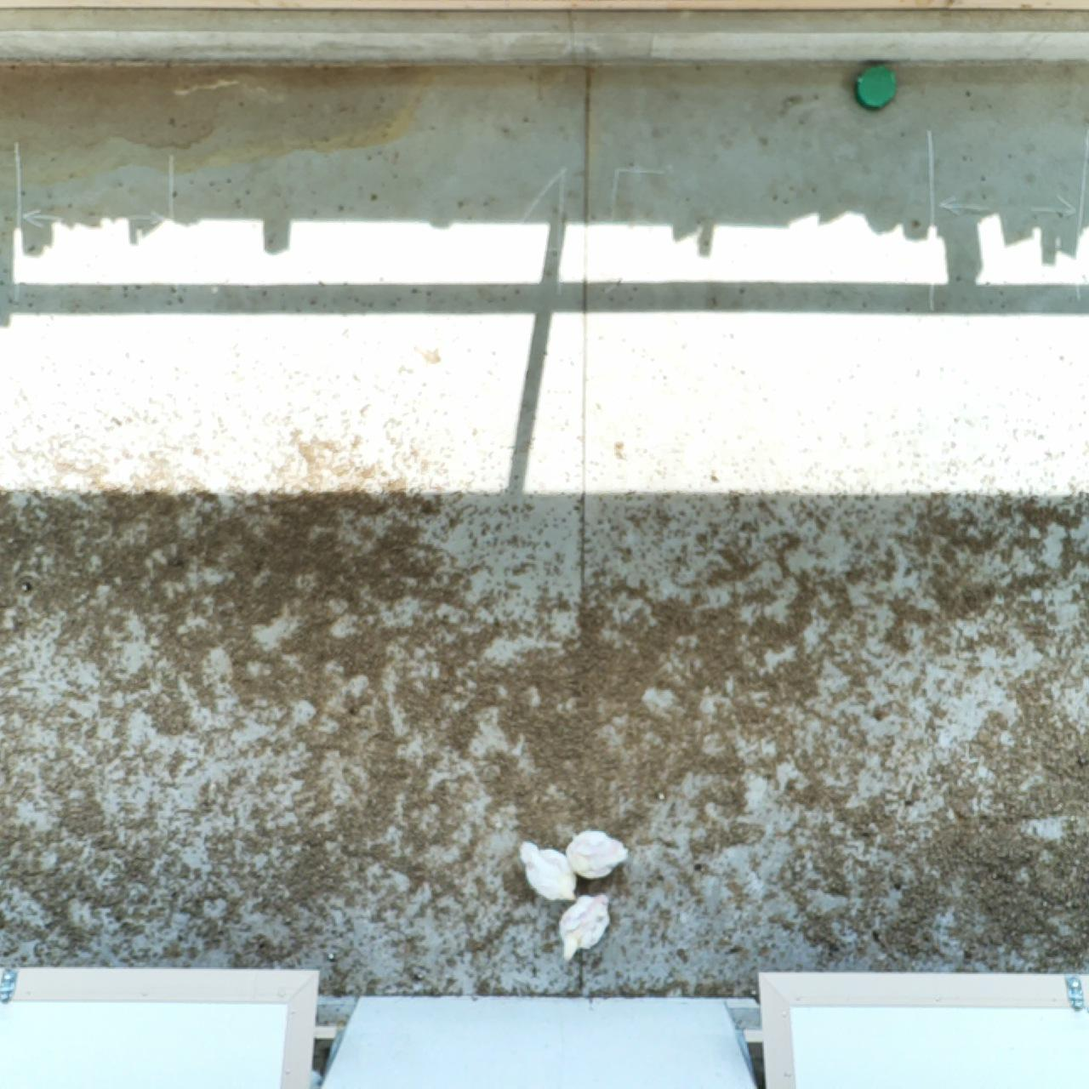chicken: (557, 891, 614, 965), (517, 838, 580, 904), (563, 827, 631, 882)
